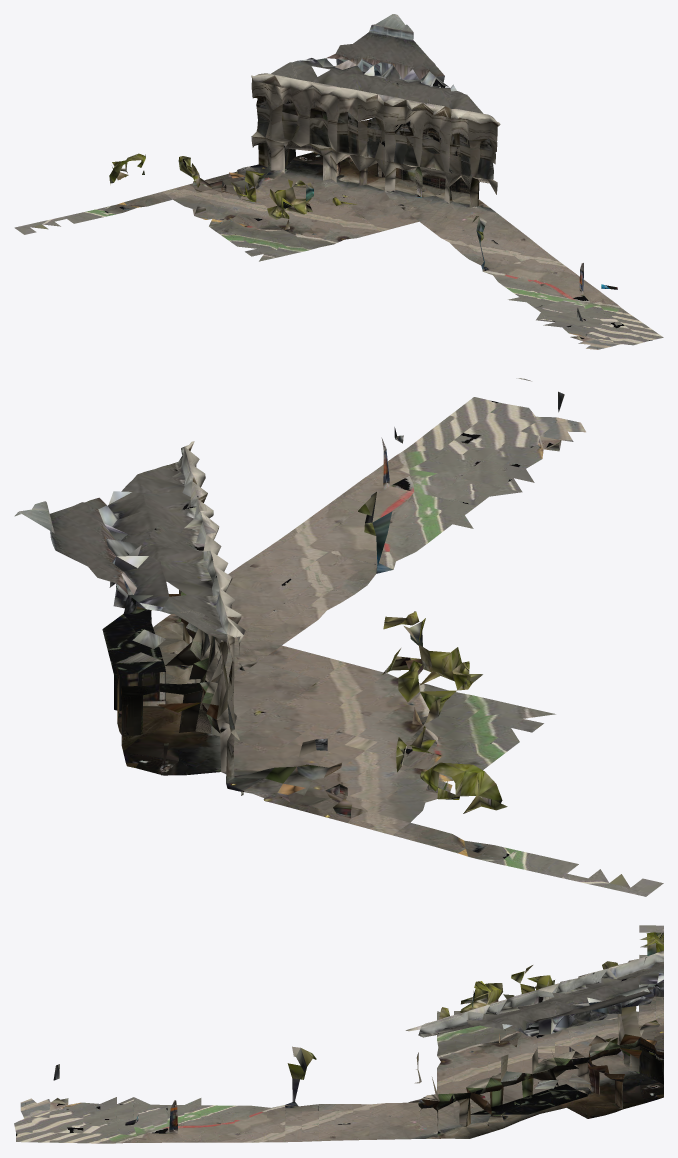
The picture shows the model from 3 angles, top to bottom: view 1: azimuth 30°, elevation 25°; view 2: azimuth 150°, elevation 25°; view 3: azimuth 270°, elevation 25°; orthographic projection. The views are drawn at different scales.
Bounding box in the file's own units: 60.98 × 20.25 × 77.58.
Materials: 1 (1 with a texture image).
